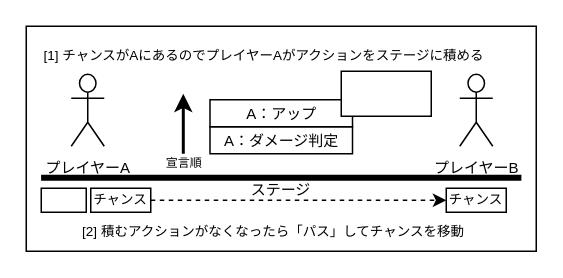
This 563x278 diagram has some shape labels left out. The box of each missing label's shape, as (x1, y1, x2, y2) in pixels:
クイックのみ 重ねられる: (340, 70, 431, 116)
ターン: (40, 187, 86, 212)
